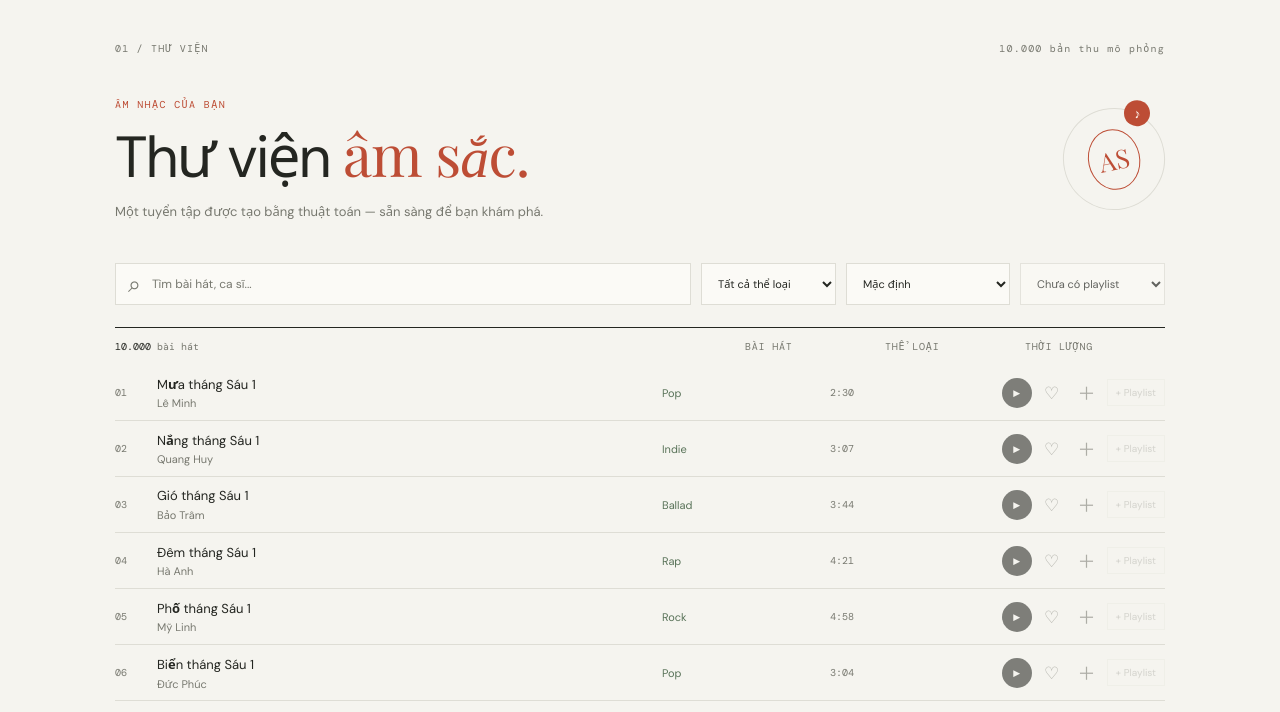
Test: LibraryPage › chỉ áp dụng từ khóa sau 300 mili giây và hỗ trợ tìm kiếm không dấu
Type "Le Minh" into the search field named "Tìm bài hát hoặc ca sĩ". click: (414, 284)
box: [150, 275, 678, 293]
Wait 300 ms
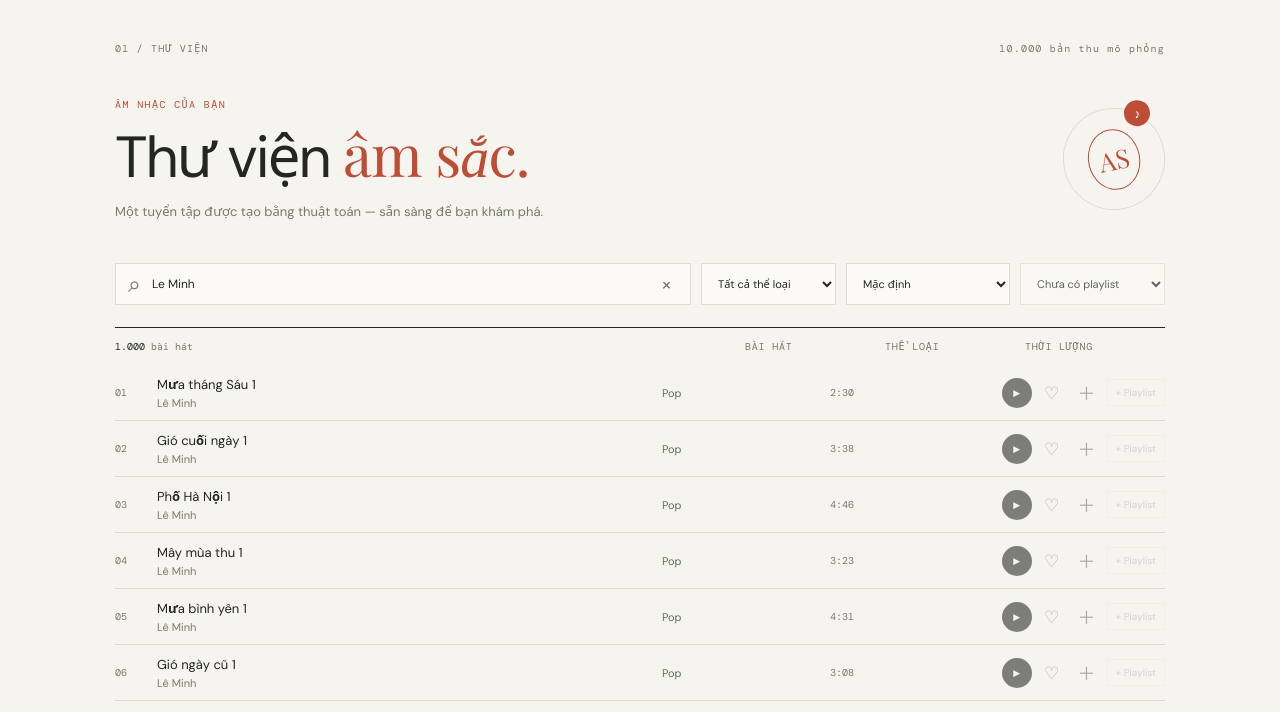
Expected: the text "1.000" is shown, [115, 340, 145, 353]
